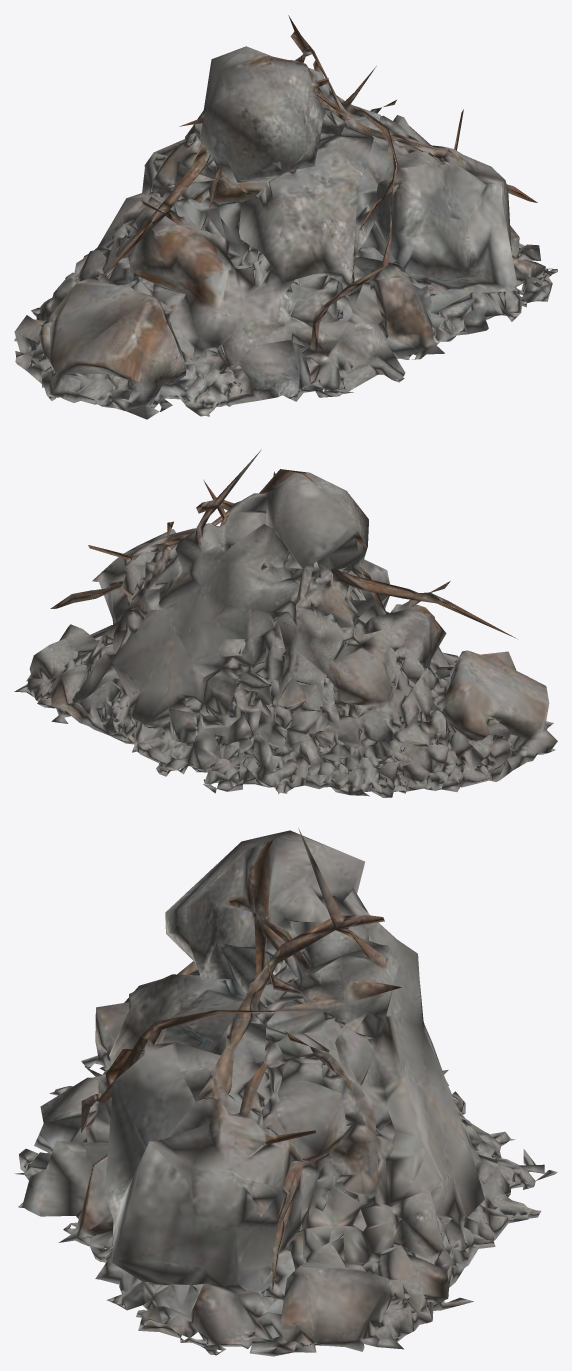
The model's file is rubble_low.glb.
3 renders of one model, top to bottom at view 1: azimuth 30°, elevation 25°; view 2: azimuth 150°, elevation 25°; view 3: azimuth 270°, elevation 25°, orthographic. The views are drawn at different scales.
Bounding box in the file's own units: 1.88 × 1 × 1.3.
1 material, 1 textured.
